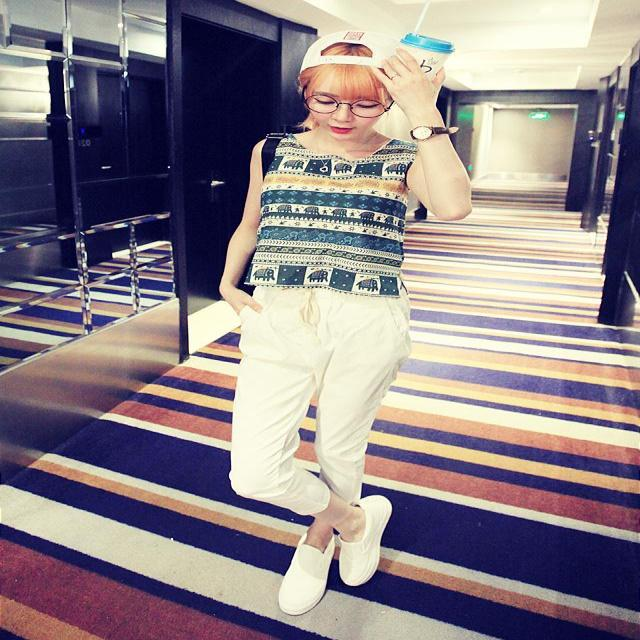trousers: (232, 276, 409, 515)
vest: (246, 137, 416, 295)
